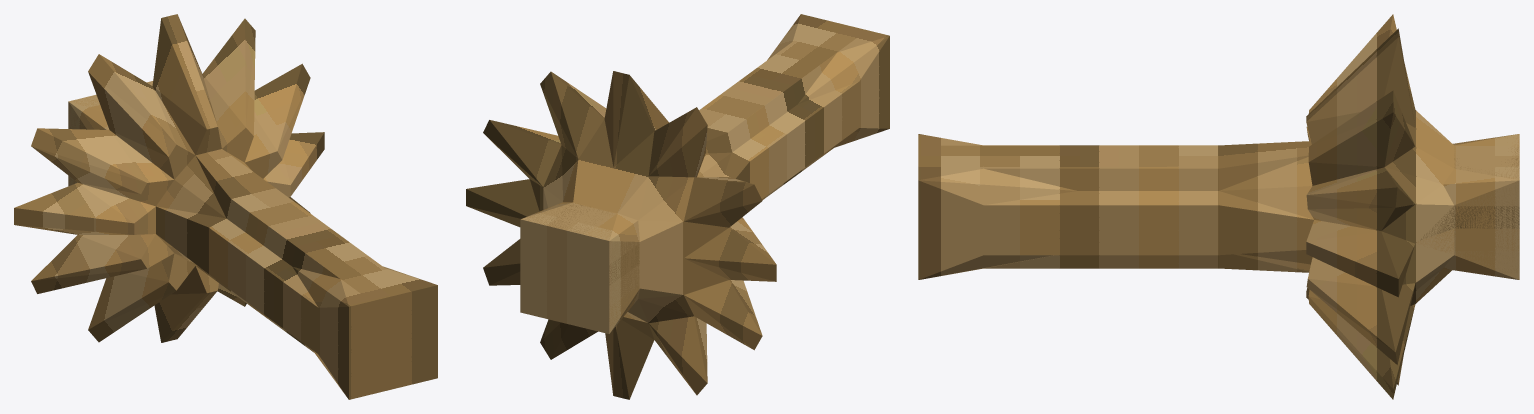
The model's file is t_junction.obj.
3 renders of one model, left to right at view 1: azimuth 30°, elevation 25°; view 2: azimuth 150°, elevation 25°; view 3: azimuth 270°, elevation 25°, orthographic. The views are drawn at different scales.
Visible parts, largest first — view 1: gear2; view 2: gear2, gear1; view 3: gear2, gear1.
Part boxes in pixels (x1,y1,x2,y2): gear2: [14, 14, 437, 399]; gear2: [466, 14, 889, 399]; gear1: [521, 203, 639, 330]; gear2: [918, 14, 1519, 399]; gear1: [1417, 134, 1519, 279].
Size of the model in its own units: 0.6388 by 0.6388 by 0.9992.
